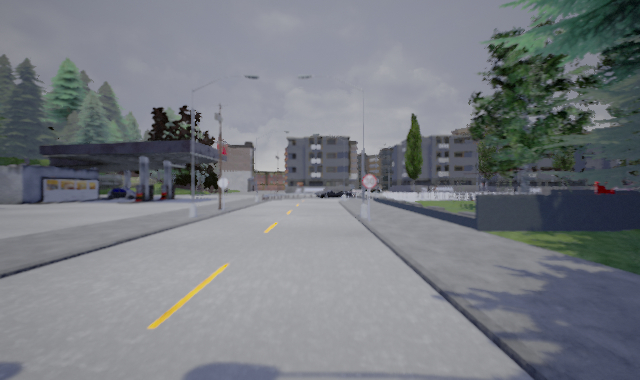traffic_sign: (360, 172, 378, 189)
vehicle: (315, 186, 354, 199)
